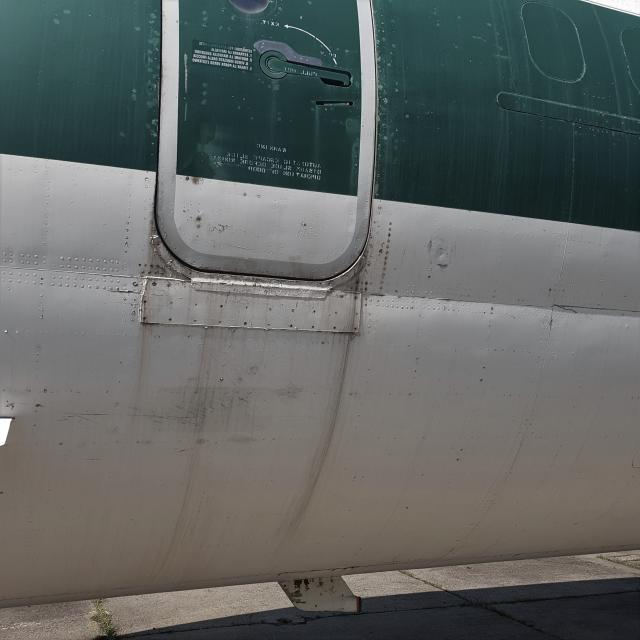crack: (554, 302, 580, 318)
